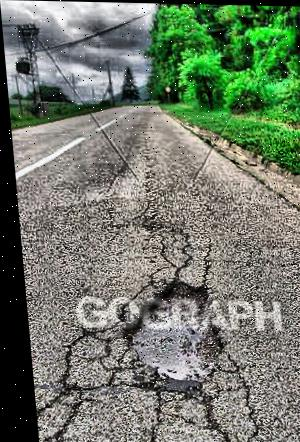pothole: (109, 276, 224, 393)
